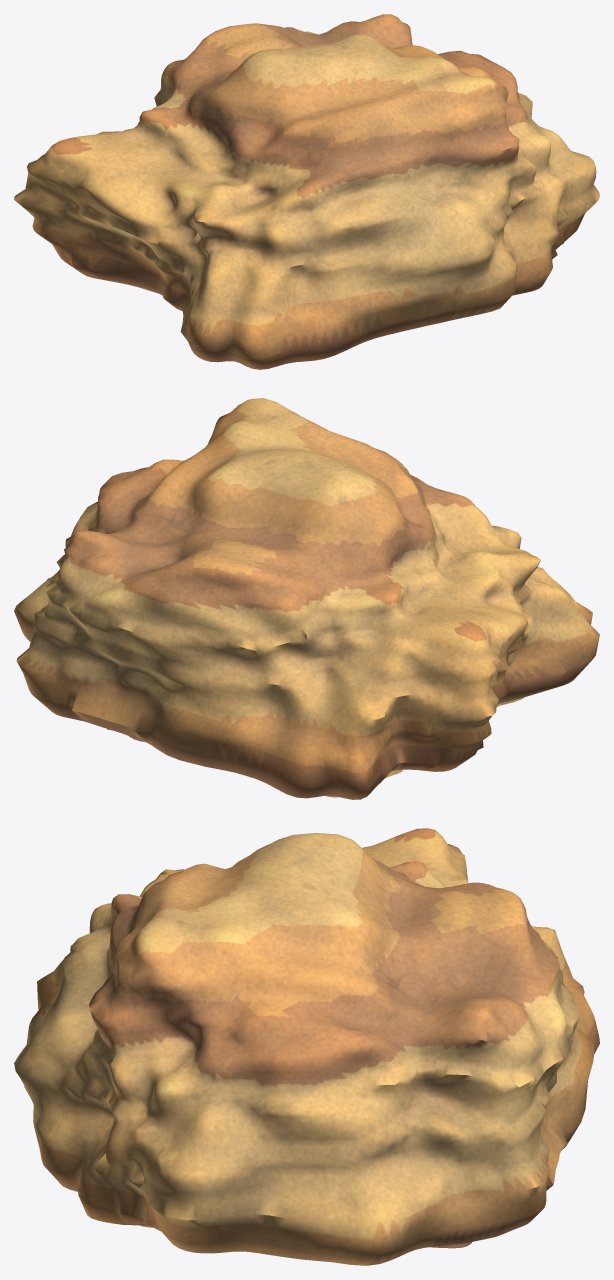
Rendered from WM_RockDesert_A.fbx.
The picture shows the model from 3 angles, top to bottom: view 1: azimuth 30°, elevation 25°; view 2: azimuth 150°, elevation 25°; view 3: azimuth 270°, elevation 25°; orthographic projection. The views are drawn at different scales.
Visible parts, largest first — view 1: WM_RockDesert_A_LOD0; view 2: WM_RockDesert_A_LOD0; view 3: WM_RockDesert_A_LOD0.
Boxes of the visible parts, left/top/right/bottom form: WM_RockDesert_A_LOD0: left=14, top=14, right=599, bottom=369; WM_RockDesert_A_LOD0: left=14, top=398, right=599, bottom=799; WM_RockDesert_A_LOD0: left=14, top=828, right=599, bottom=1265.
Size of what is drawn, in the model's own units: 1.98 by 0.8688 by 1.61.
